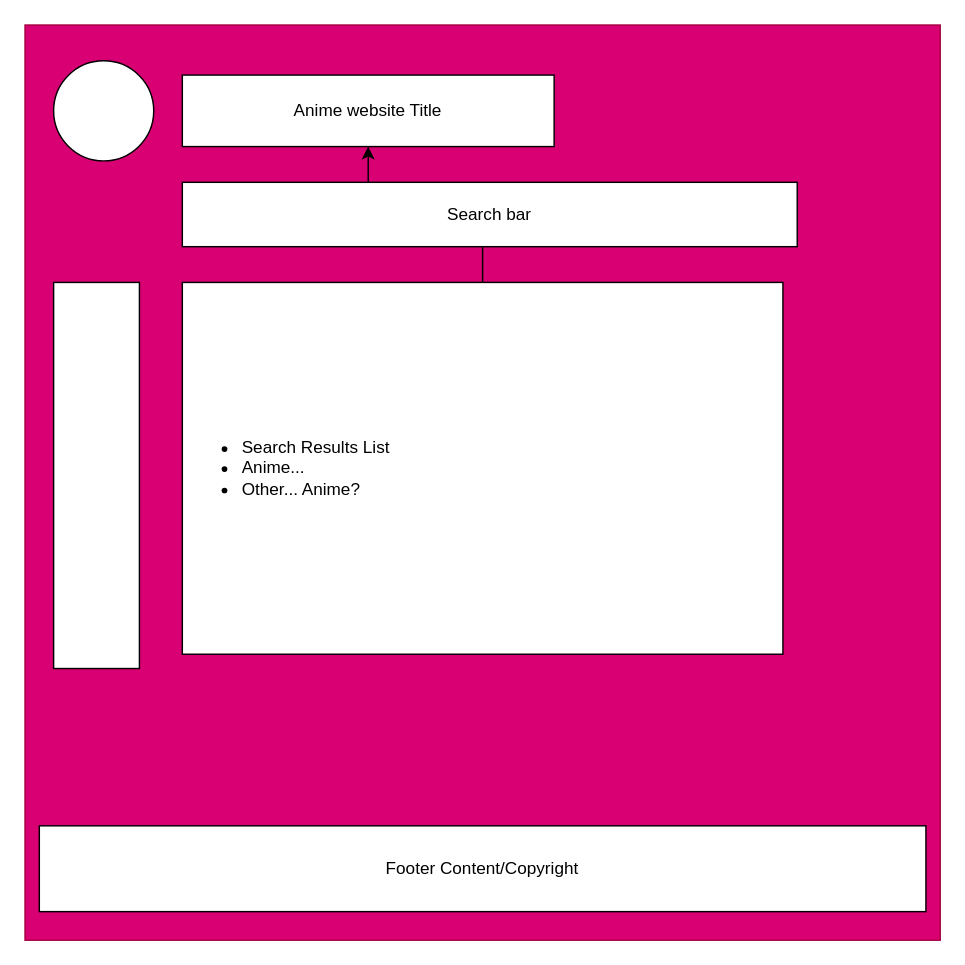
Some shapes in this 965 by 965 pixel diagram are drawn without their labels. Here are the shapes that lost their labels. From the top down, the centre of each, then its label:
At pixel 103 110: "Favicon".
At pixel 95 475: "Sidebar Filter Results".
